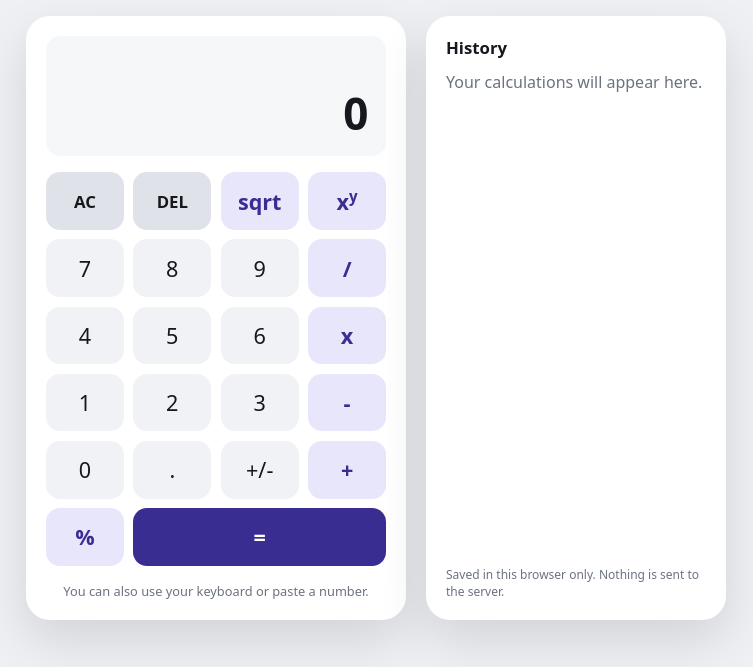
Test: Calculator › shows numbers on the display as they are typed
The width and height of the screenshot is (753, 667).
Check: the text with test id "display" reads "0", box [343,83,368,143]
Click the button "1" at (85, 403), box [46,374,124,431]
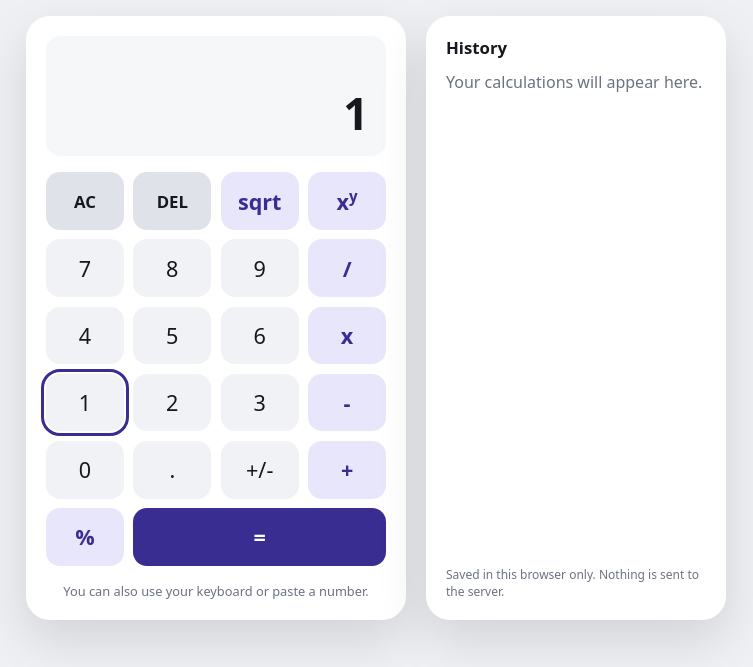
Click the button "2" at (172, 403), box [133,374,211,431]
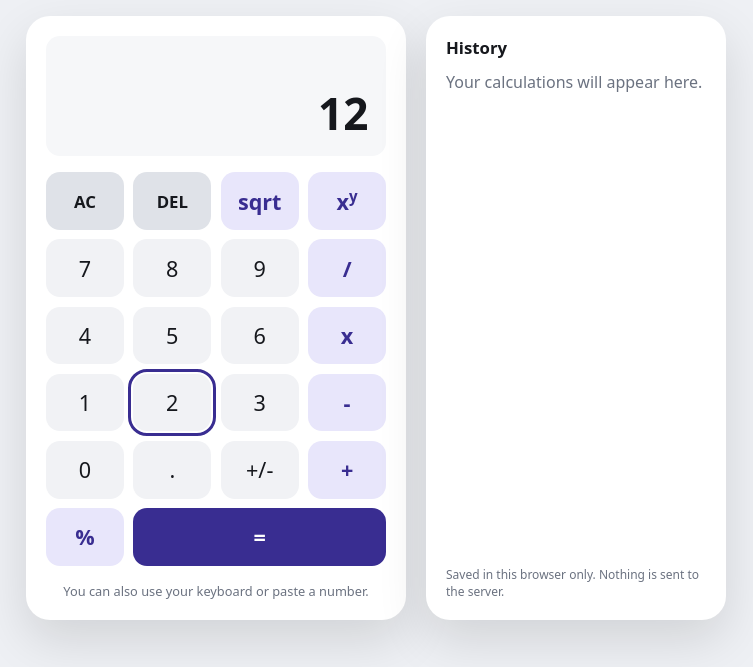
Click the button named "Decimal point" at (172, 470), box [133,441,211,499]
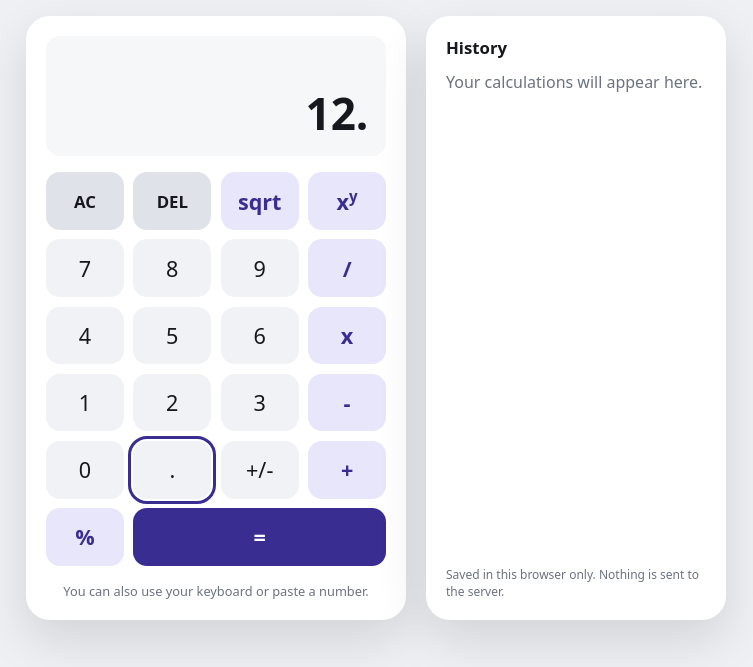
Click the button "5" at (172, 335), box [133,307,211,364]
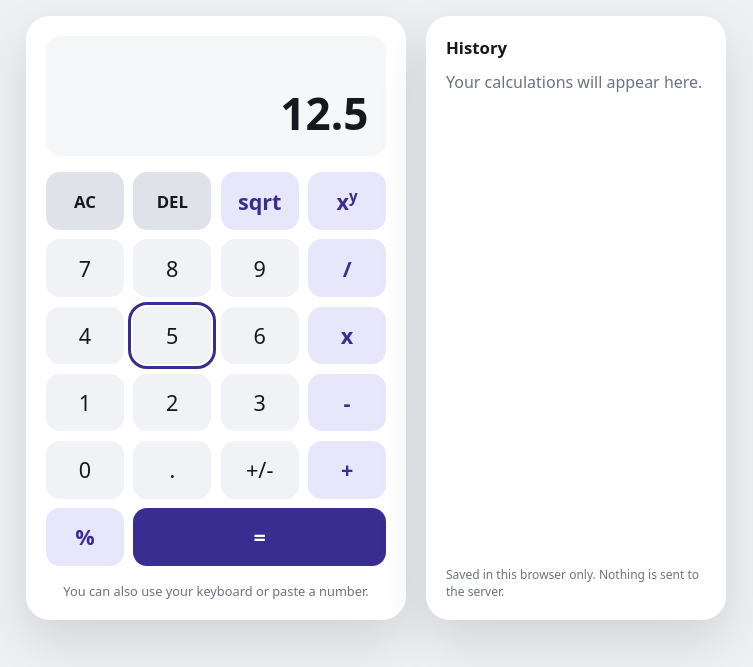
Check: the text with test id "display" reads "12.5", box [280,83,368,143]
